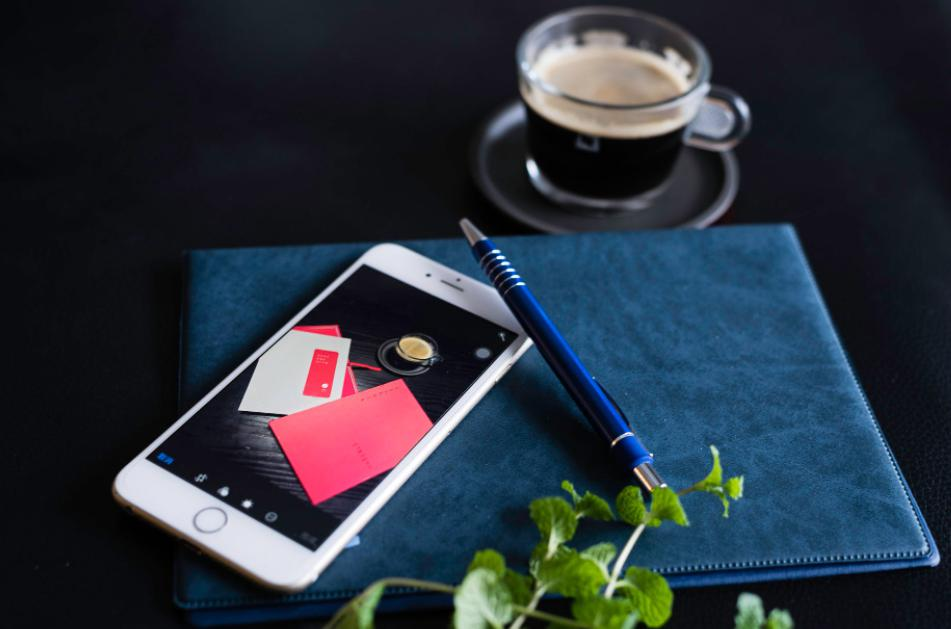mobile: (111, 243, 535, 595)
